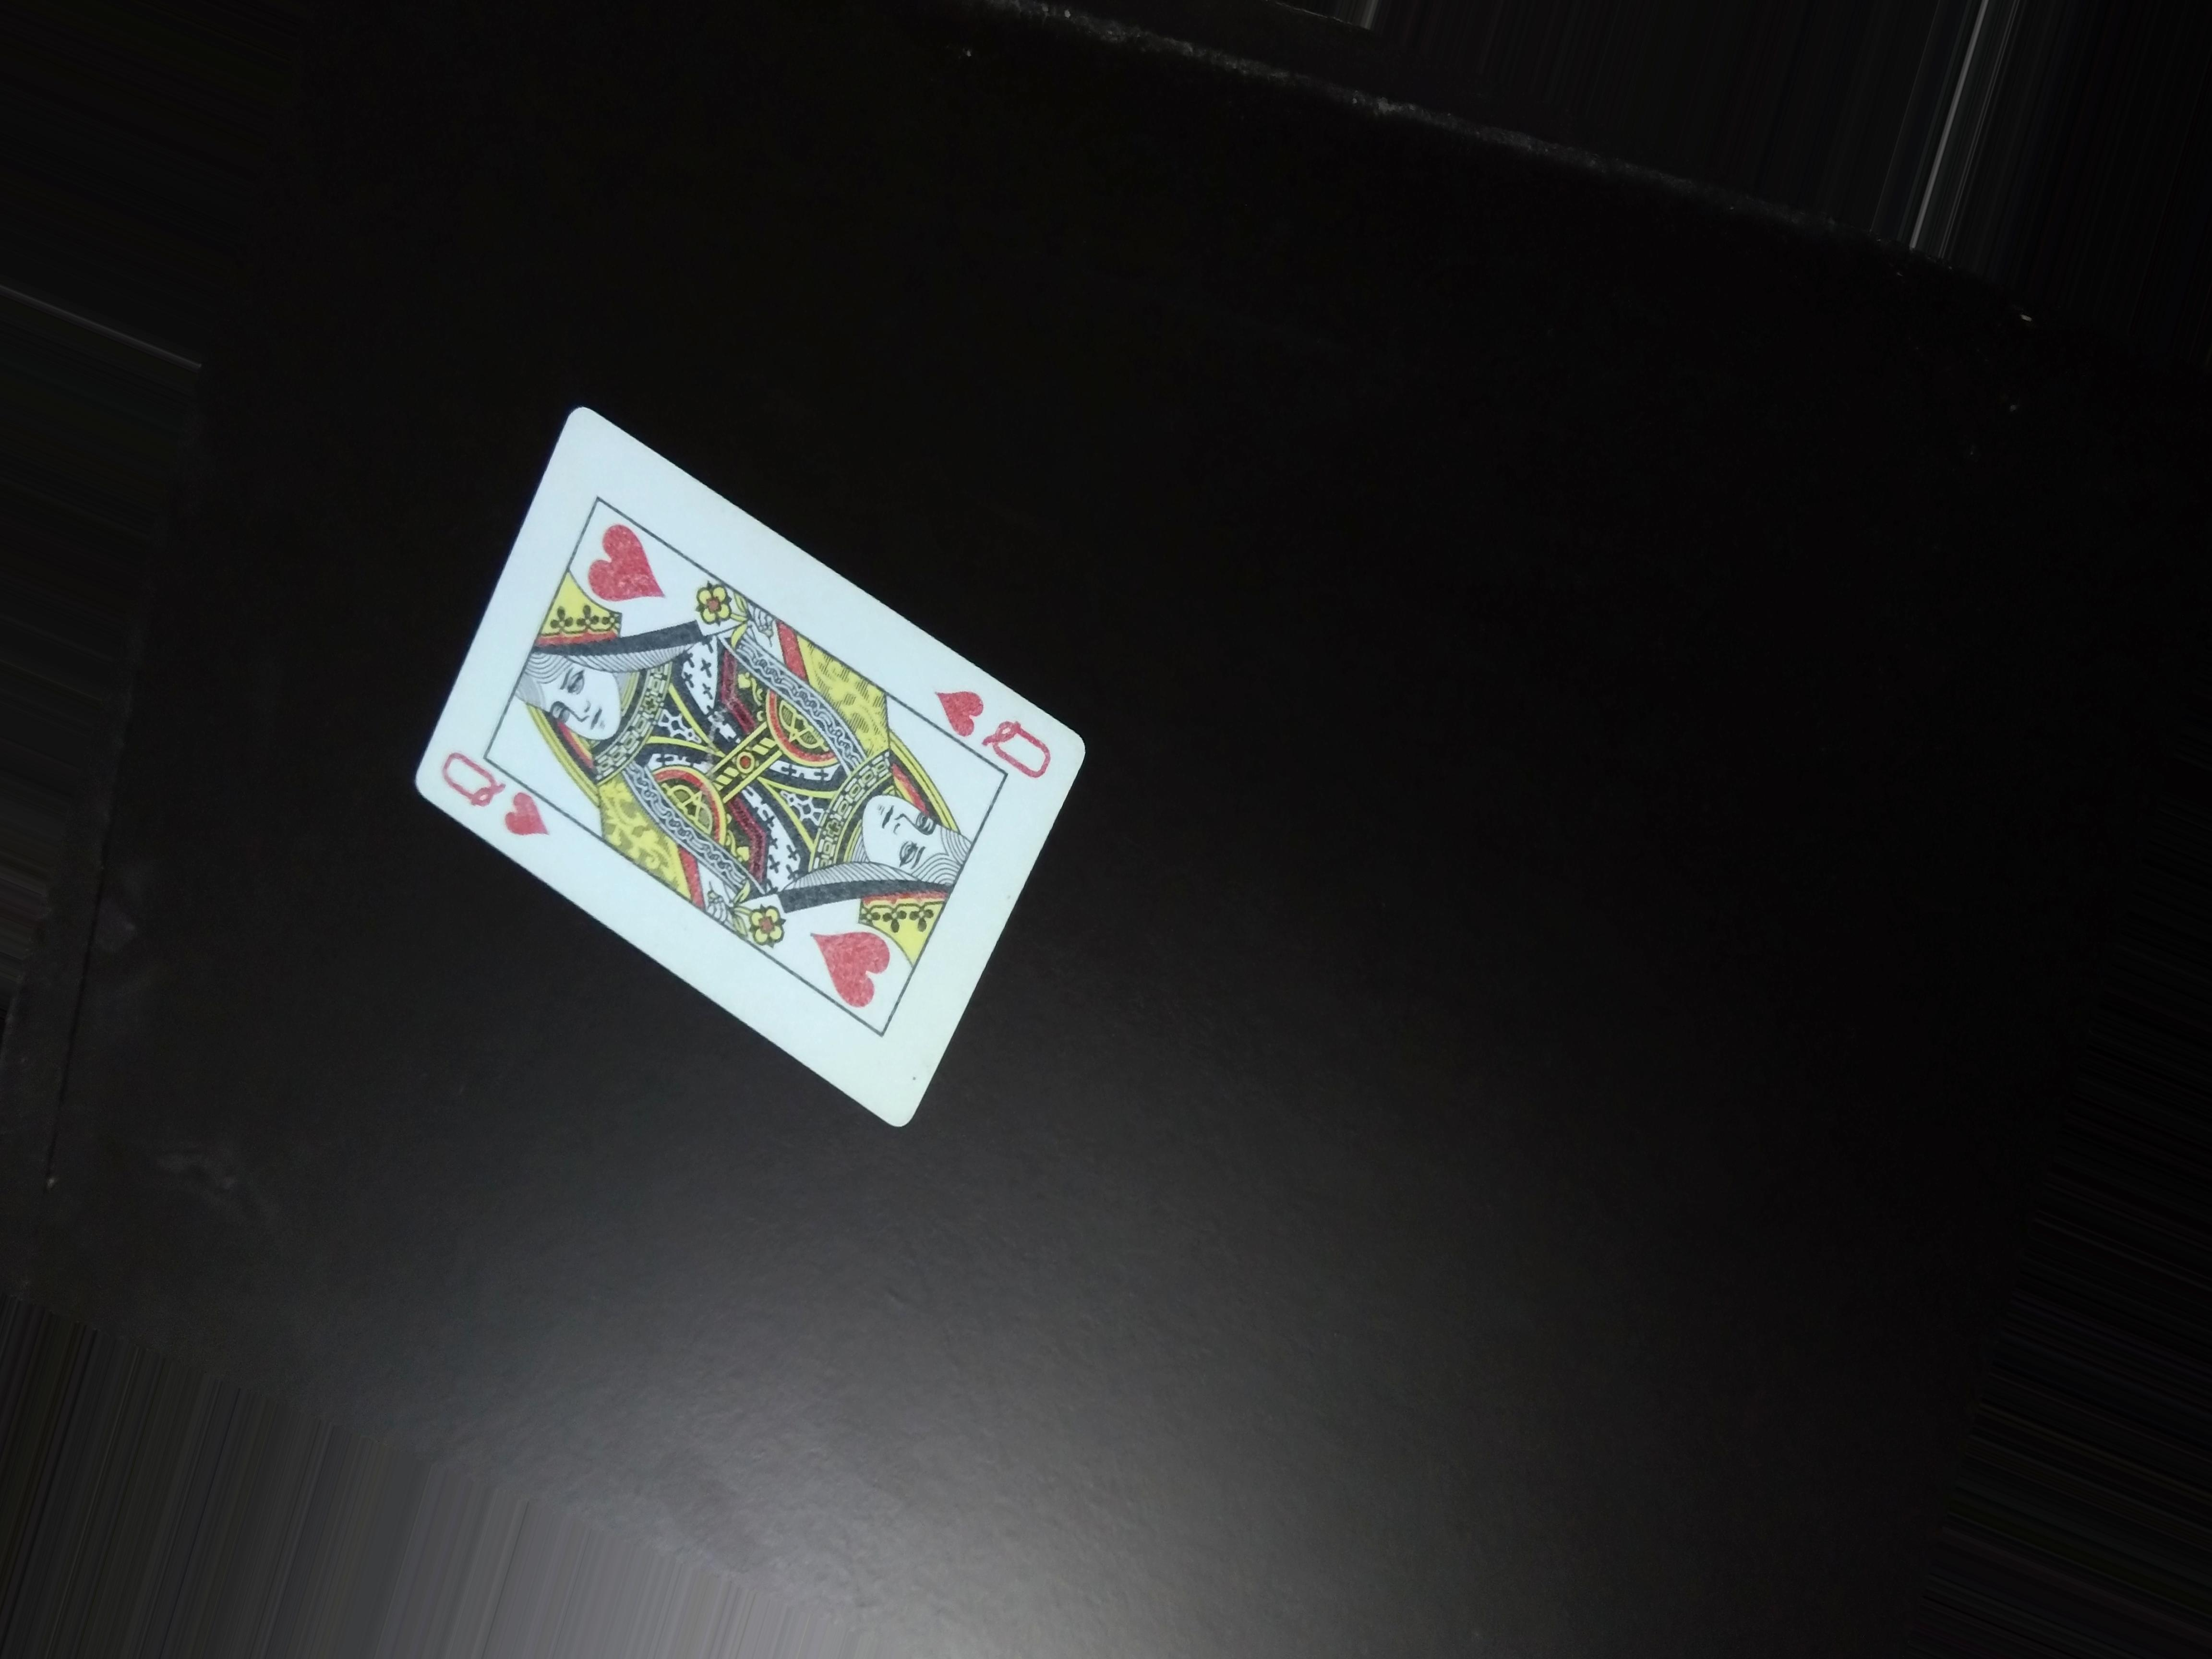QH: (444, 748, 554, 847)
